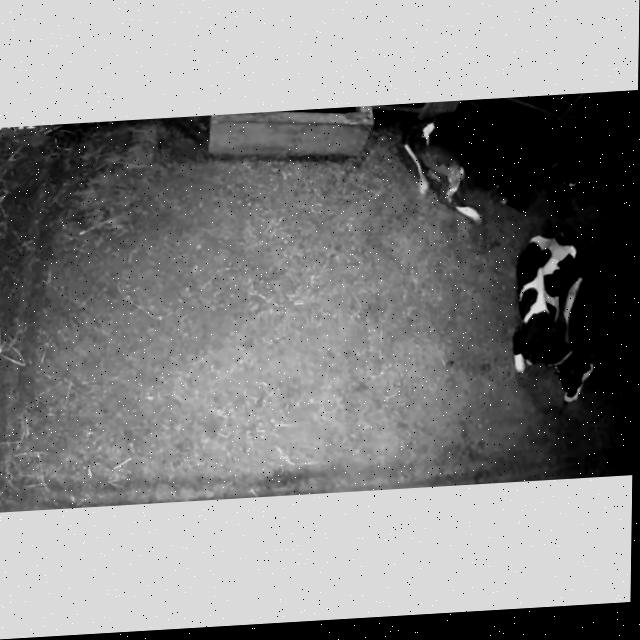lay: (401, 104, 587, 230), (506, 218, 610, 427)
